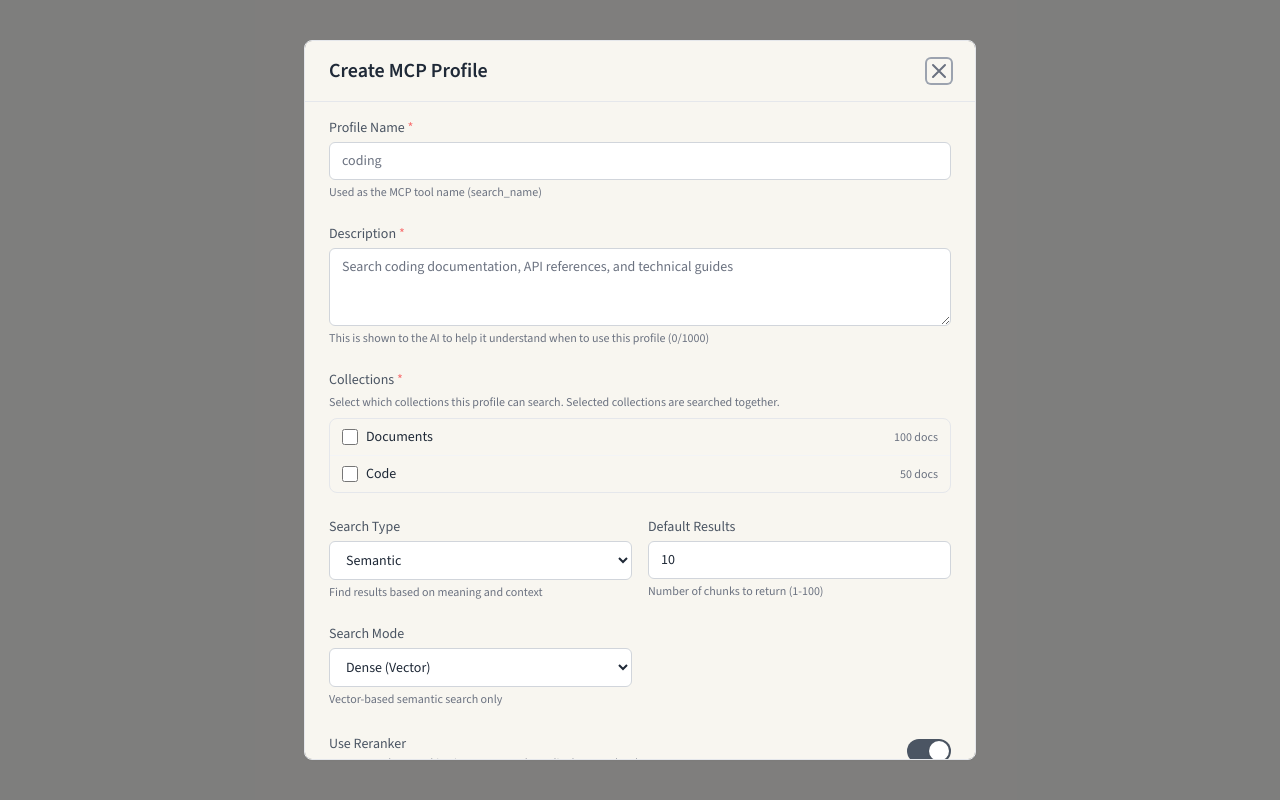
Test: ProfileFormModal › Form Validation › should show error for empty description
The width and height of the screenshot is (1280, 800).
Type "testprofile" into the field labelled "Profile Name *" at (640, 161), box [329, 142, 951, 180]
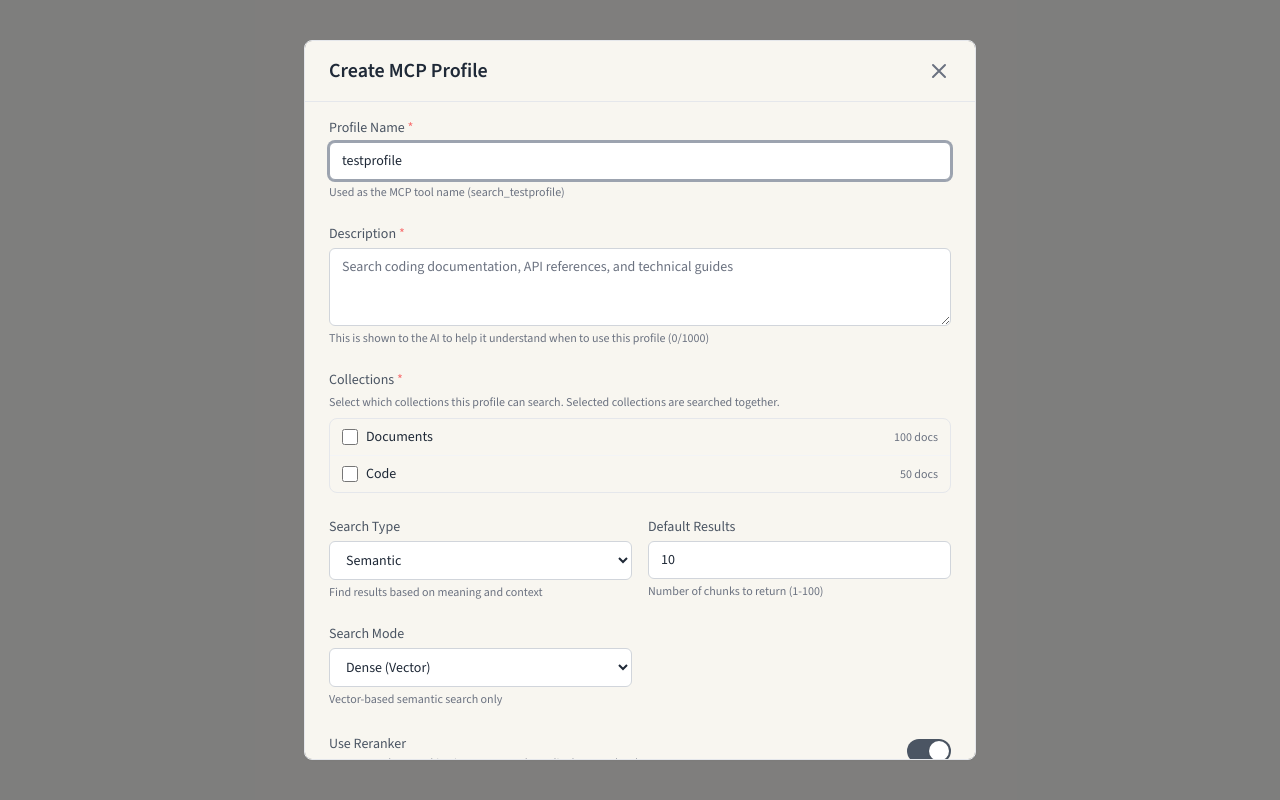
Click the checkbox labelled "Documents 100 docs" at (350, 437), box [342, 429, 358, 445]
(page scrolled)
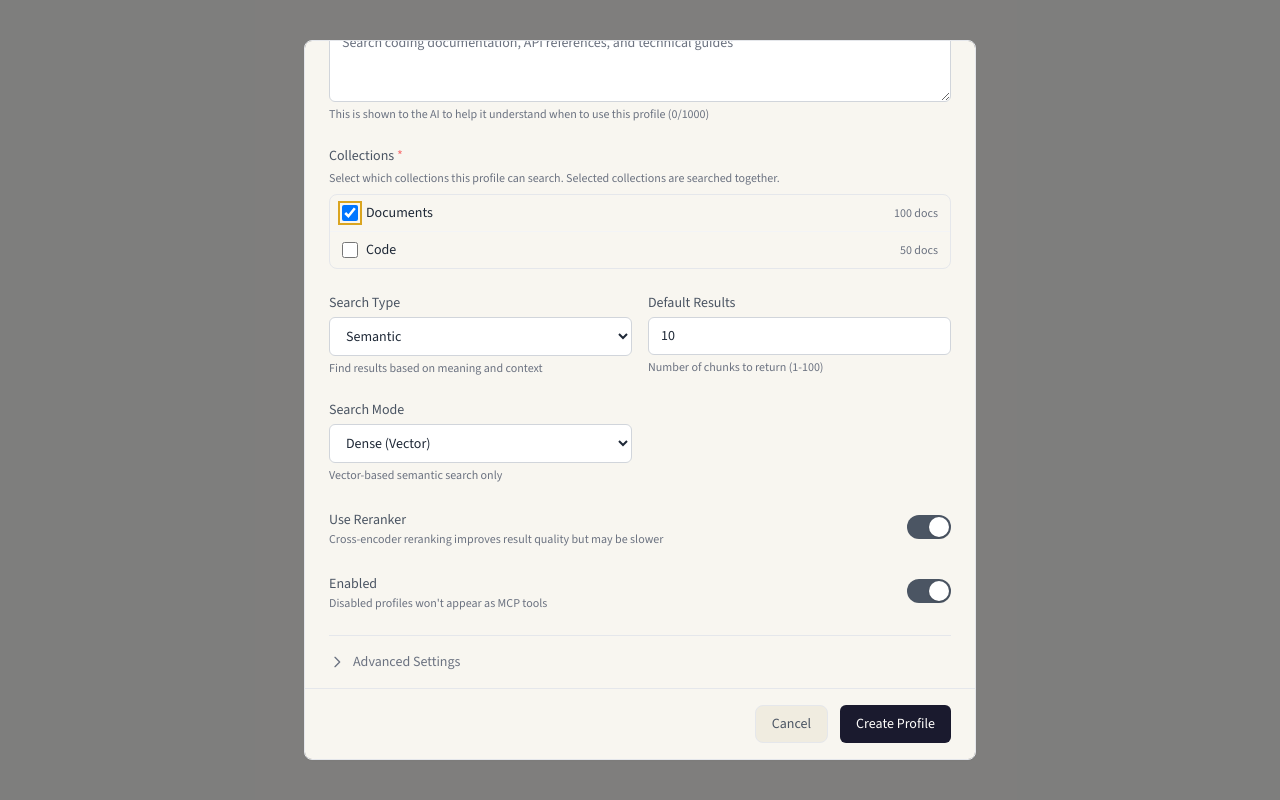
Click the button "Create Profile" at (896, 724), box [840, 705, 951, 743]
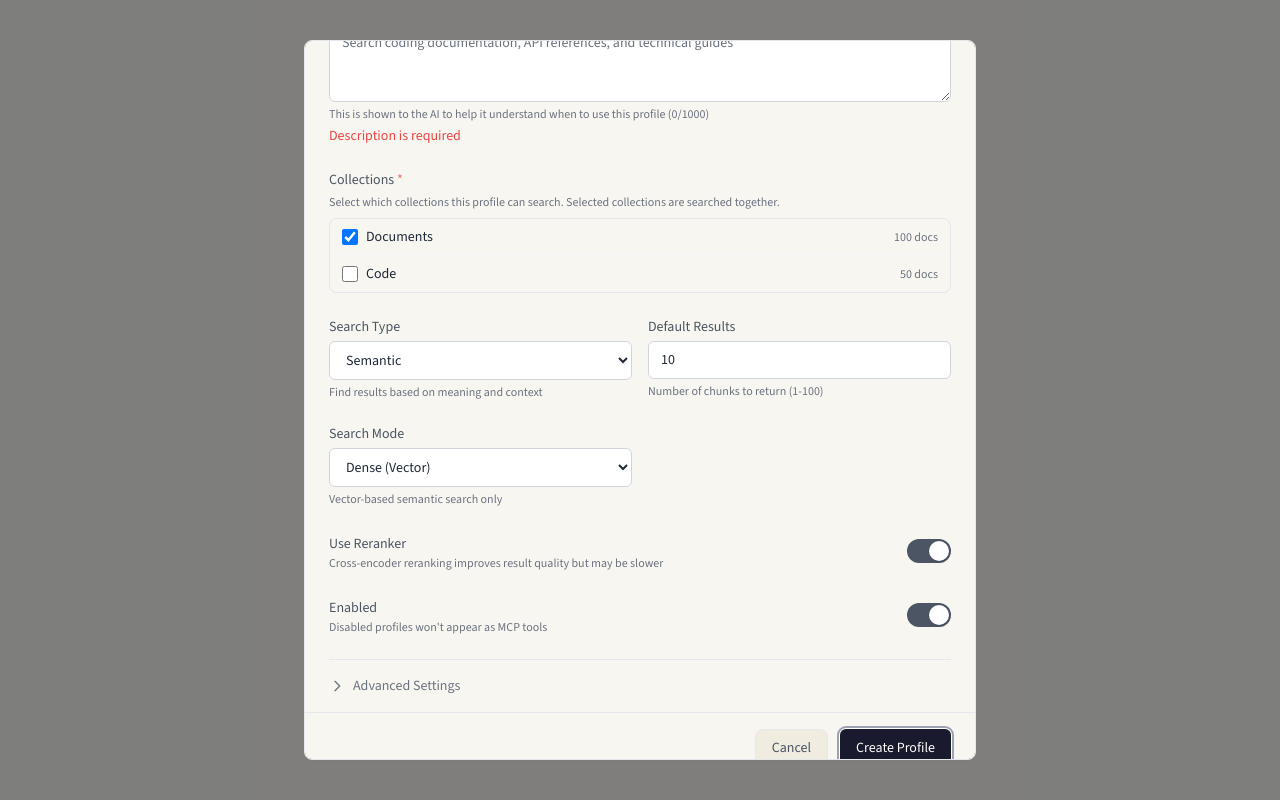
expect the text "Description is required" is shown: met, box [329, 126, 461, 145]
